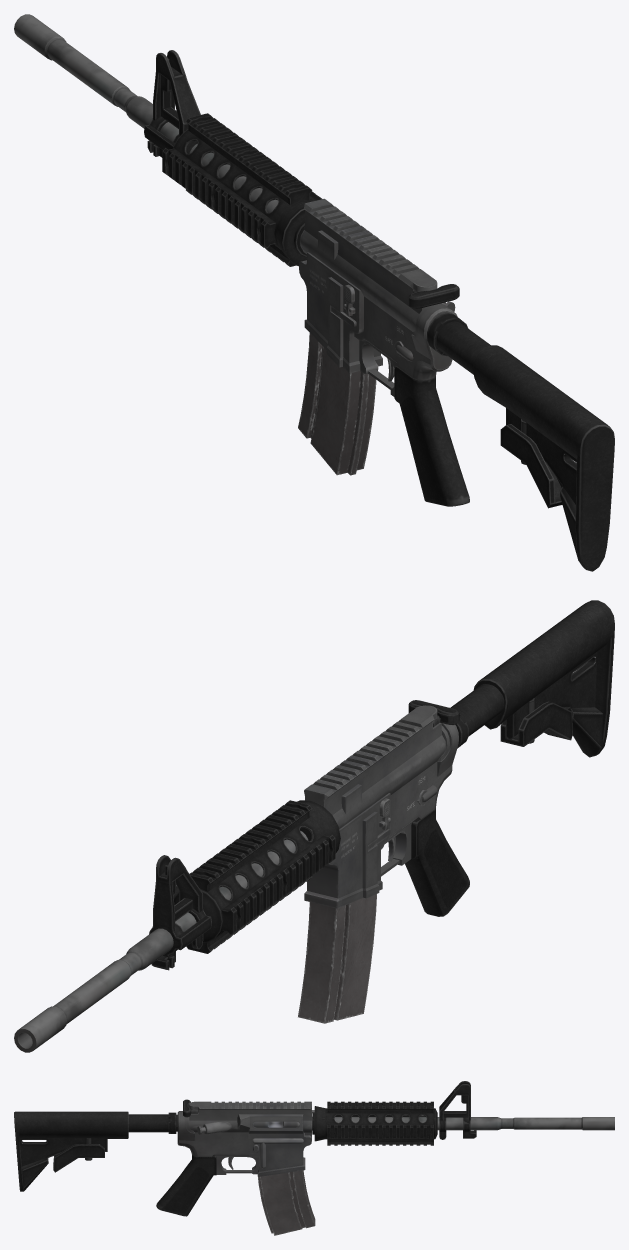
3 views of the same model, one above another, from view 1: azimuth 30°, elevation 25°; view 2: azimuth 150°, elevation 25°; view 3: azimuth 270°, elevation 25° (orthographic). The views are drawn at different scales.
Parts seen in each view (by area): view 1: Receiver, Stock, Handguard, Magazine, FrontSight, ChargingHandle; view 2: Receiver, Stock, Handguard, Magazine, FrontSight; view 3: Receiver, Stock, Handguard, Magazine, FrontSight, Bolt.
Boxes of the visible parts, left/top/right/bottom form: Receiver: left=14, top=14, right=490, bottom=506; Stock: left=473, top=345, right=614, bottom=571; Handguard: left=162, top=113, right=321, bottom=266; Magazine: left=298, top=333, right=376, bottom=475; FrontSight: left=144, top=50, right=200, bottom=157; ChargingHandle: left=408, top=284, right=459, bottom=308; Receiver: left=14, top=684, right=504, bottom=1052; Stock: left=473, top=600, right=614, bottom=757; Handguard: left=173, top=800, right=340, bottom=953; Magazine: left=298, top=894, right=376, bottom=1023; FrontSight: left=149, top=855, right=211, bottom=970; Receiver: left=128, top=1101, right=614, bottom=1216; Stock: left=14, top=1111, right=128, bottom=1191; Handguard: left=312, top=1101, right=437, bottom=1145; Magazine: left=257, top=1170, right=315, bottom=1235; FrontSight: left=439, top=1081, right=476, bottom=1139; Bolt: left=253, top=1121, right=299, bottom=1127.
Size of the model in its own units: 0.0601 by 0.2314 by 0.84.
1 material, 1 textured.
